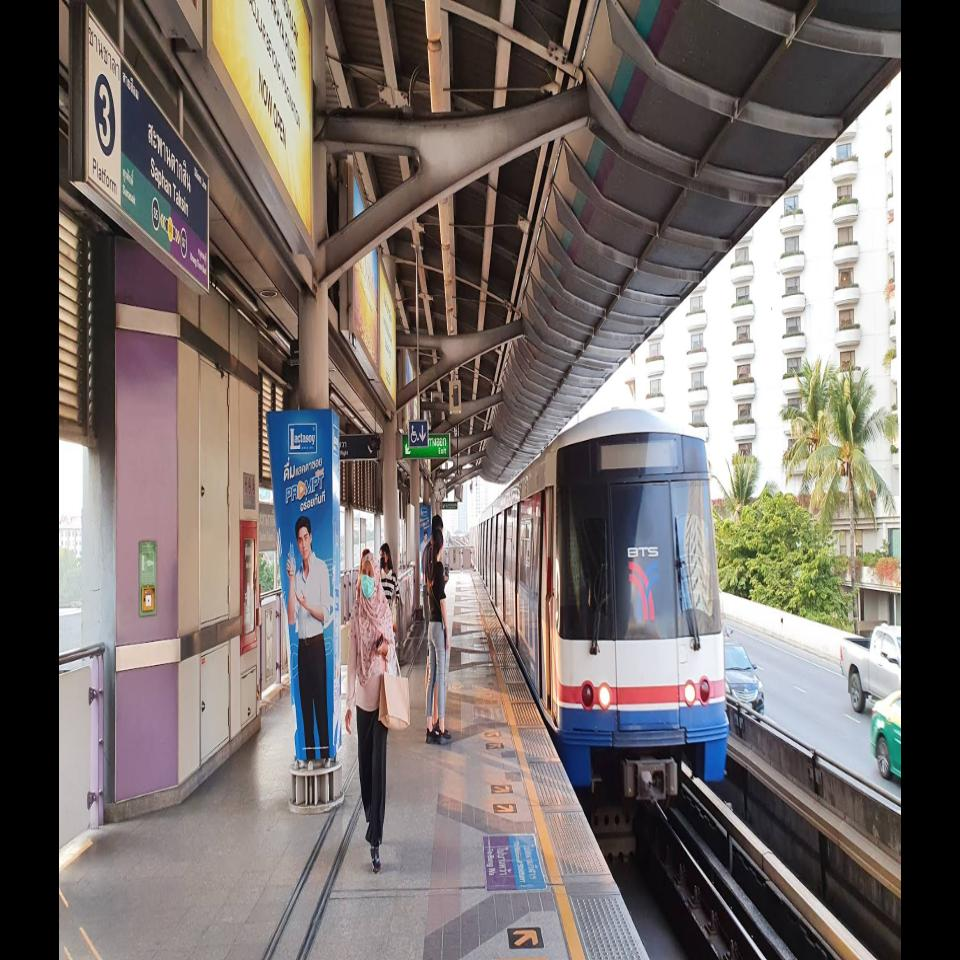signage: (148, 89, 191, 278)
